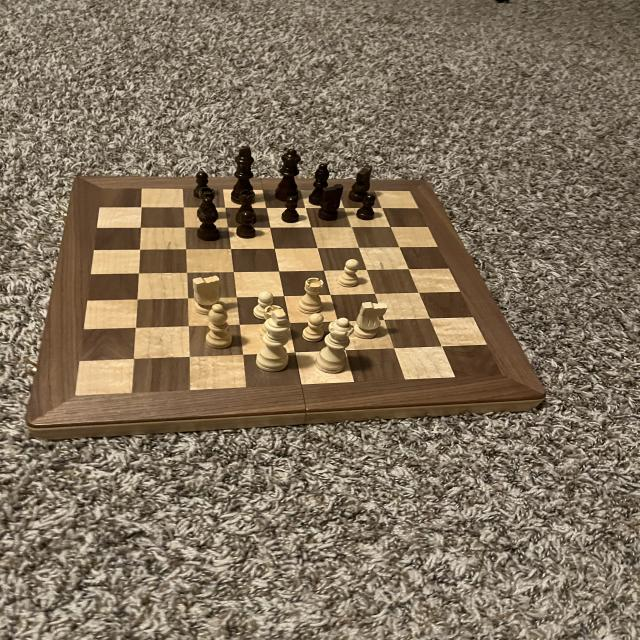bishop: (193, 197, 223, 243), (306, 161, 334, 206)
black-bishop: (230, 145, 258, 207)
black-king: (347, 163, 373, 204), (319, 183, 344, 222)
black-knight: (232, 209, 260, 241), (356, 194, 379, 223), (280, 195, 301, 225), (193, 170, 214, 199)
black-pawn: (272, 146, 304, 204)
black-queen: (194, 186, 223, 223), (233, 188, 259, 225)
black-rook: (204, 304, 232, 351)
white-bishop: (256, 310, 292, 374)
white-king: (349, 300, 392, 341), (188, 274, 222, 317)
white-knight: (300, 312, 328, 344), (334, 258, 362, 289), (252, 289, 278, 321)
white-pawn: (313, 316, 355, 376)
white-queen: (256, 304, 286, 342), (298, 276, 325, 316)
